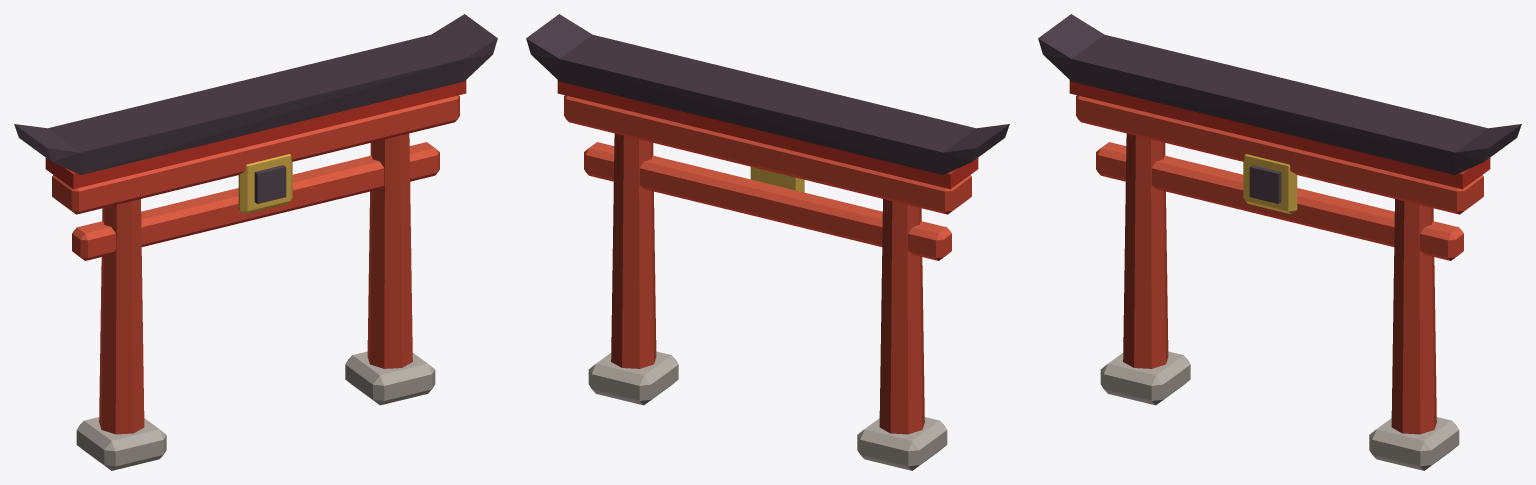
File: habitat_prop_kitsune.fbx
3 views of the same model, side by side, from view 1: azimuth 30°, elevation 25°; view 2: azimuth 150°, elevation 25°; view 3: azimuth 330°, elevation 25° (orthographic).
Visible parts, largest first — view 1: habitat_prop_kitsune; view 2: habitat_prop_kitsune; view 3: habitat_prop_kitsune.
Boxes of the visible parts, x1,y1,x2,y2 form: habitat_prop_kitsune: [14, 14, 497, 470]; habitat_prop_kitsune: [526, 14, 1009, 470]; habitat_prop_kitsune: [1038, 14, 1521, 470].
Size of the model in its own units: 1.88 by 1.36 by 0.26.
